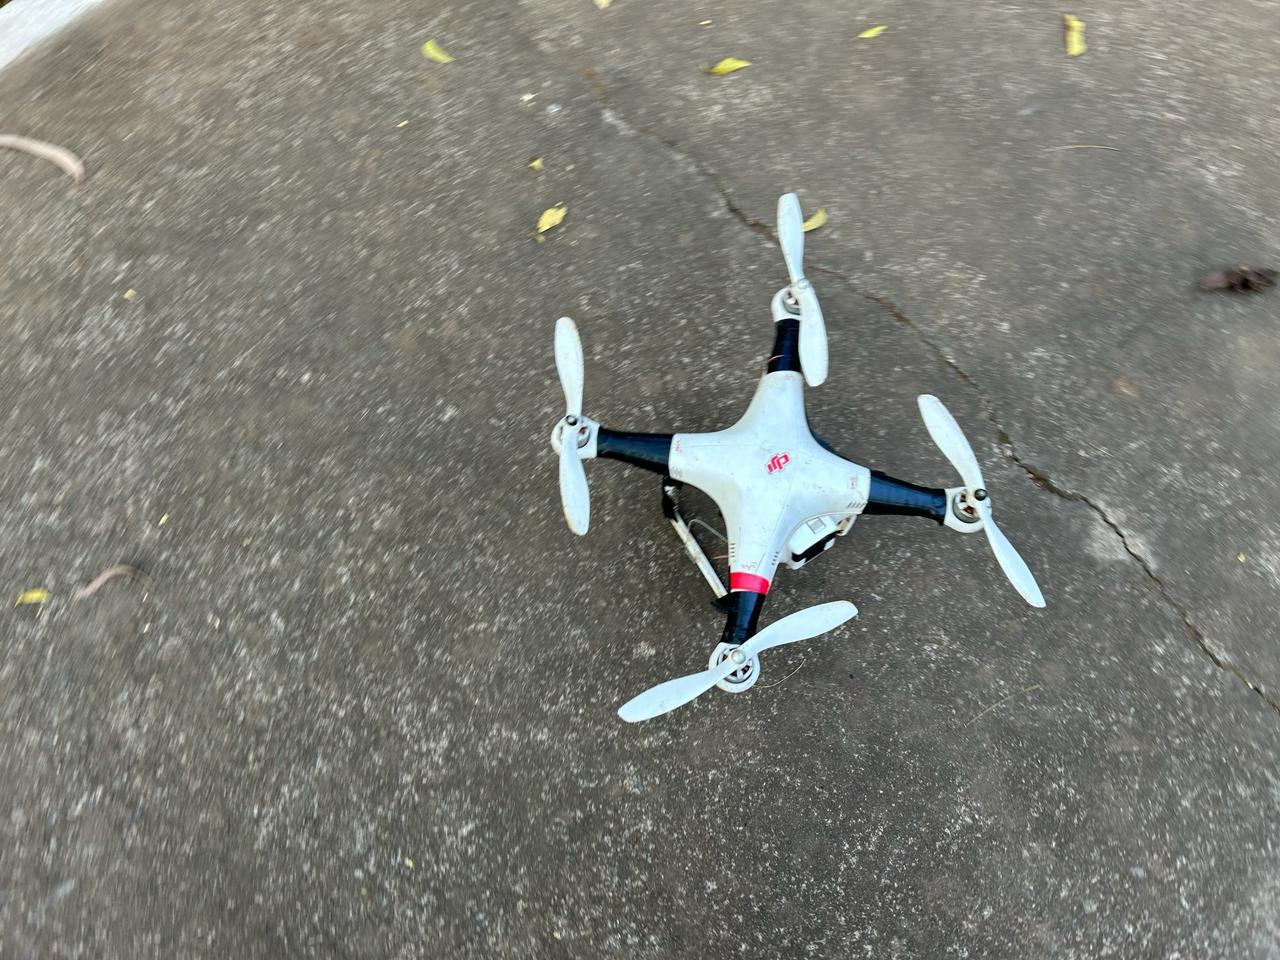drone: (365, 142, 1162, 778)
